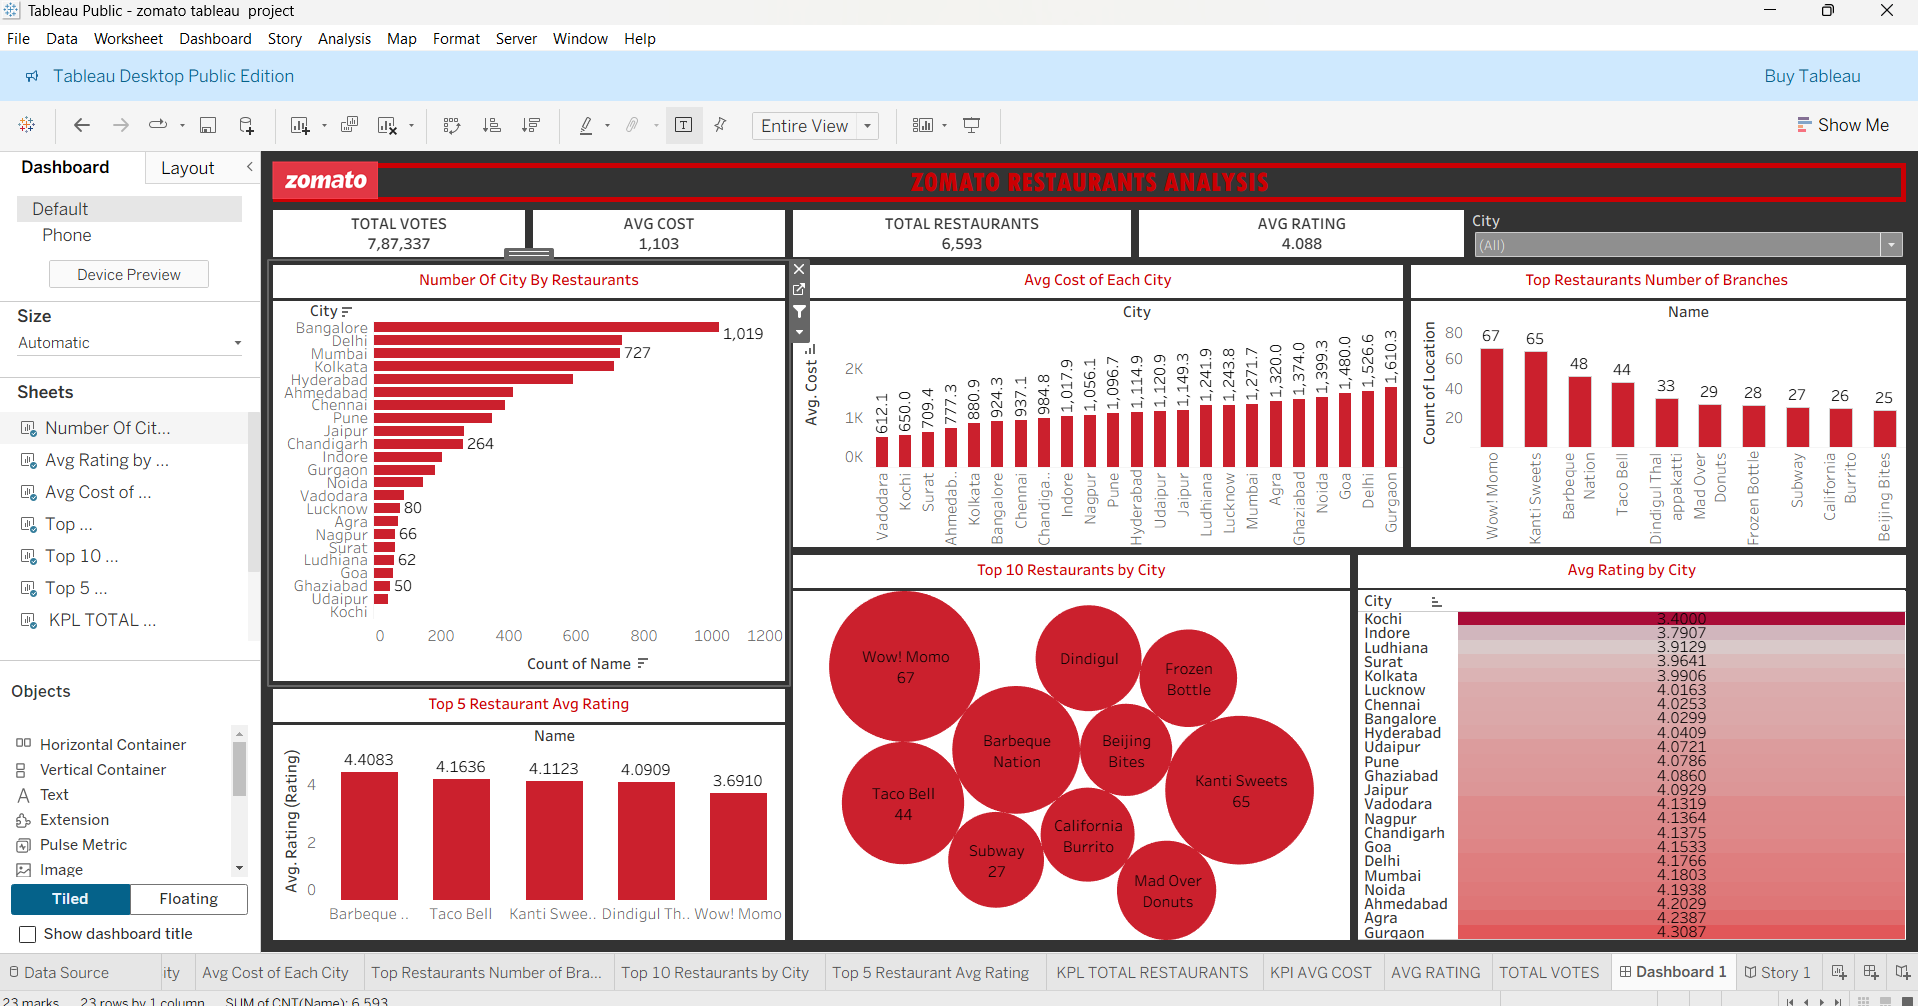

What the dashboard file says about the page in this screenshot:
{"tool":"tableau","page":{"name":"Dashboard 1","canvas":[1000,1000],"units":"permille","ordinal":0},"visuals":[{"type":"title","box":[4.8,10,990.3,58.7]},{"type":"image","param":"Image/png-transparent-zomato-hd-logo.png","box":[6.6,12.5,333.1,47.4]},{"type":"worksheet","title":"TOTAL VOTES","mark":"Automatic","box":[4.8,68.7,156.9,69.2]},{"type":"worksheet","title":"KPI AVG COST","mark":"Automatic","box":[161.8,68.7,156.9,69.2]},{"type":"worksheet","title":" KPL TOTAL RESTAURANTS","mark":"Automatic","box":[318.7,68.7,208.6,69.2]},{"type":"worksheet","title":"AVG RATING","mark":"Text","box":[527.2,68.7,201.5,69.2]},{"type":"filter","title":"Avg Cost of Each City","param":"[federated.1l2fprg169owx210cs5zf058sx1s].[none:City:nk]","box":[728.7,68.7,266.5,69.2]},{"type":"worksheet","title":"Number Of City By Restaurants","mark":"Automatic","rows":["City"],"cols":["Name"],"box":[4.8,137.8,313.8,529.4]},{"type":"worksheet","title":"Avg Cost of Each City","mark":"Automatic","rows":["Cost"],"cols":["City"],"box":[318.7,137.9,373,361.5]},{"type":"worksheet","title":"Top Restaurants Number of Branches ","mark":"Bar","rows":["Location_C88A9742244240B0B6B1047A0B9A1FC3"],"cols":["Name"],"box":[691.6,137.9,303.6,361.5]},{"type":"worksheet","title":"Top 10 Restaurants by City","mark":"Circle","box":[318.7,499.4,340.9,490.6]},{"type":"worksheet","title":"Avg Rating by City","mark":"Square","rows":["City"],"box":[659.5,499.4,335.7,490.6]},{"type":"worksheet","title":"Top 5 Restaurant Avg Rating","mark":"Automatic","rows":["Rating"],"cols":["Name"],"box":[4.8,667.2,313.8,322.8]}]}

Visuals, with their boxes on the dashboard's canvas, which has no fixed pixel size, in thousandths of its width and height (x1, y1, x2, y2). These are canvas units, not pixel positions in the 1918x1006 screenshot, which may show the page scaled, cropped or inside an application window:
title: select_region(5, 10, 995, 69)
image: select_region(7, 12, 340, 60)
"TOTAL VOTES" worksheet: select_region(5, 69, 162, 138)
"KPI AVG COST" worksheet: select_region(162, 69, 319, 138)
" KPL TOTAL RESTAURANTS" worksheet: select_region(319, 69, 527, 138)
"AVG RATING" worksheet (Text marks): select_region(527, 69, 729, 138)
"Avg Cost of Each City" filter: select_region(729, 69, 995, 138)
"Number Of City By Restaurants" worksheet: select_region(5, 138, 319, 667)
"Avg Cost of Each City" worksheet: select_region(319, 138, 692, 499)
"Top Restaurants Number of Branches " worksheet (Bar marks): select_region(692, 138, 995, 499)
"Top 10 Restaurants by City" worksheet (Circle marks): select_region(319, 499, 660, 990)
"Avg Rating by City" worksheet (Square marks): select_region(660, 499, 995, 990)
"Top 5 Restaurant Avg Rating" worksheet: select_region(5, 667, 319, 990)
